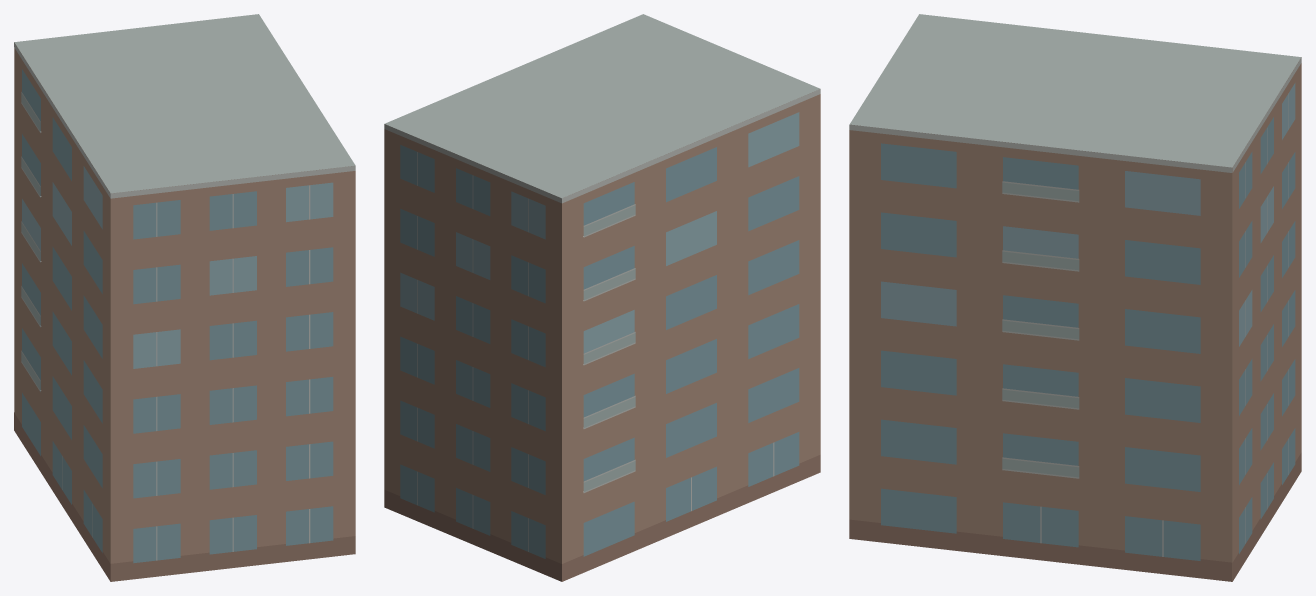
Rendered from survey-upis-32730762.glb.
The picture shows the model from 3 angles, left to right: view 1: azimuth 30°, elevation 25°; view 2: azimuth 150°, elevation 25°; view 3: azimuth 270°, elevation 25°; orthographic projection. The views are drawn at different scales.
Parts seen in each view (by area): view 1: survey-upis-32730762.tmp; view 2: survey-upis-32730762.tmp; view 3: survey-upis-32730762.tmp.
Boxes of the visible parts, x1,y1,x2,y2 form: survey-upis-32730762.tmp: (14,14,355,581); survey-upis-32730762.tmp: (384,14,820,581); survey-upis-32730762.tmp: (849,14,1301,581).
Bounding box in the file's own units: 14.56 × 18.3 × 18.11.
